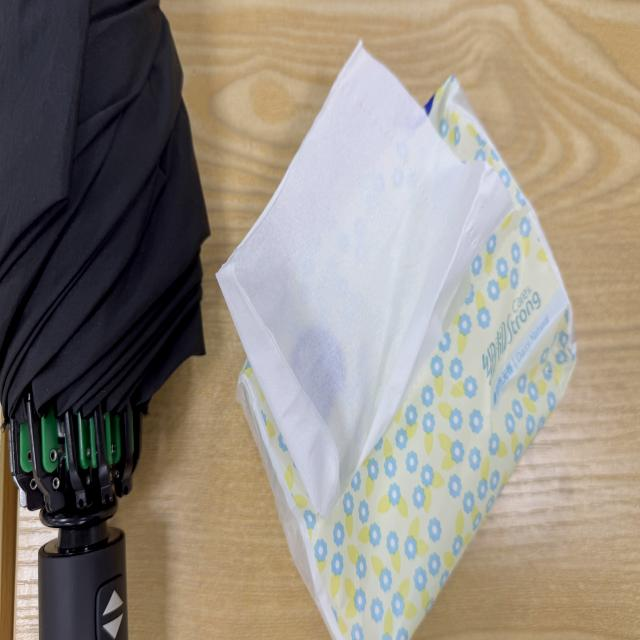tissue: (238, 79, 575, 639), (218, 46, 512, 517)
